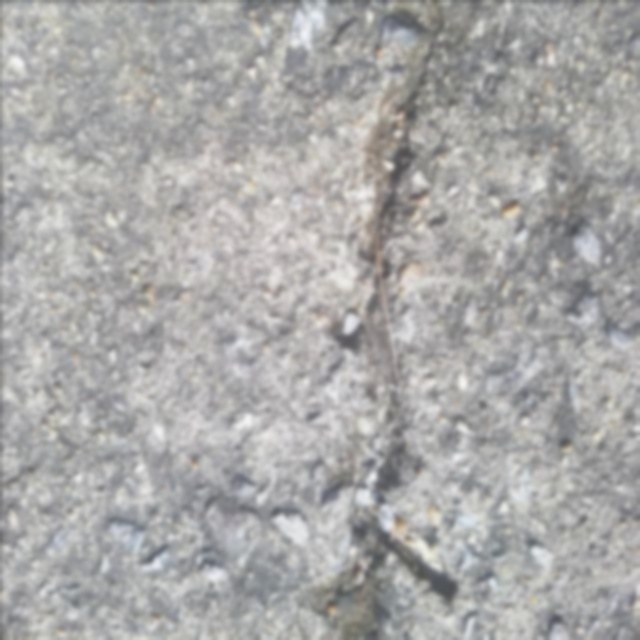SurfaceCrack: (244, 1, 490, 639)
